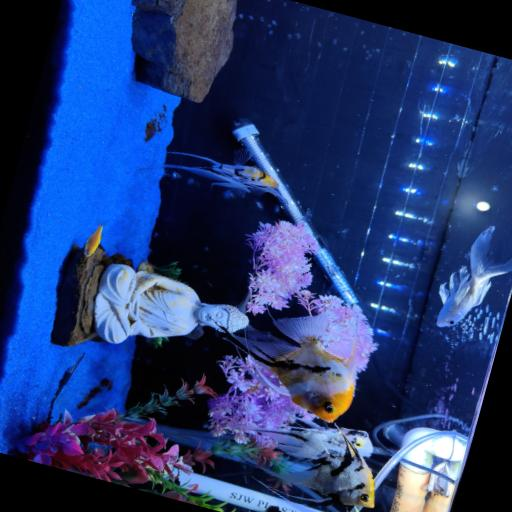Fish: (222, 313, 356, 422), (264, 428, 374, 507), (436, 226, 511, 327), (139, 148, 280, 197), (244, 416, 372, 457), (84, 221, 105, 256)
